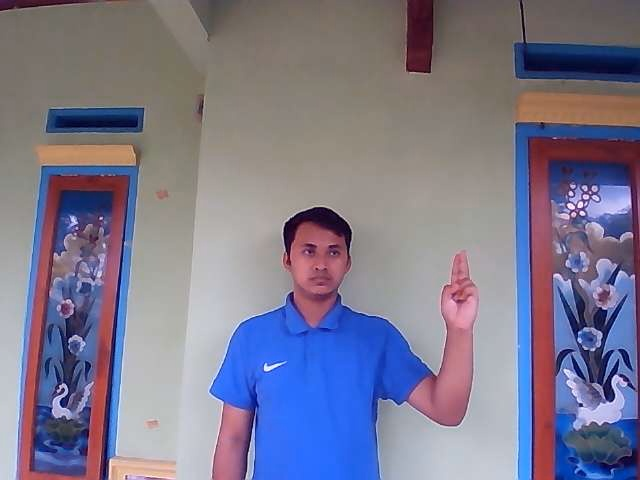U: (440, 249, 480, 330)
